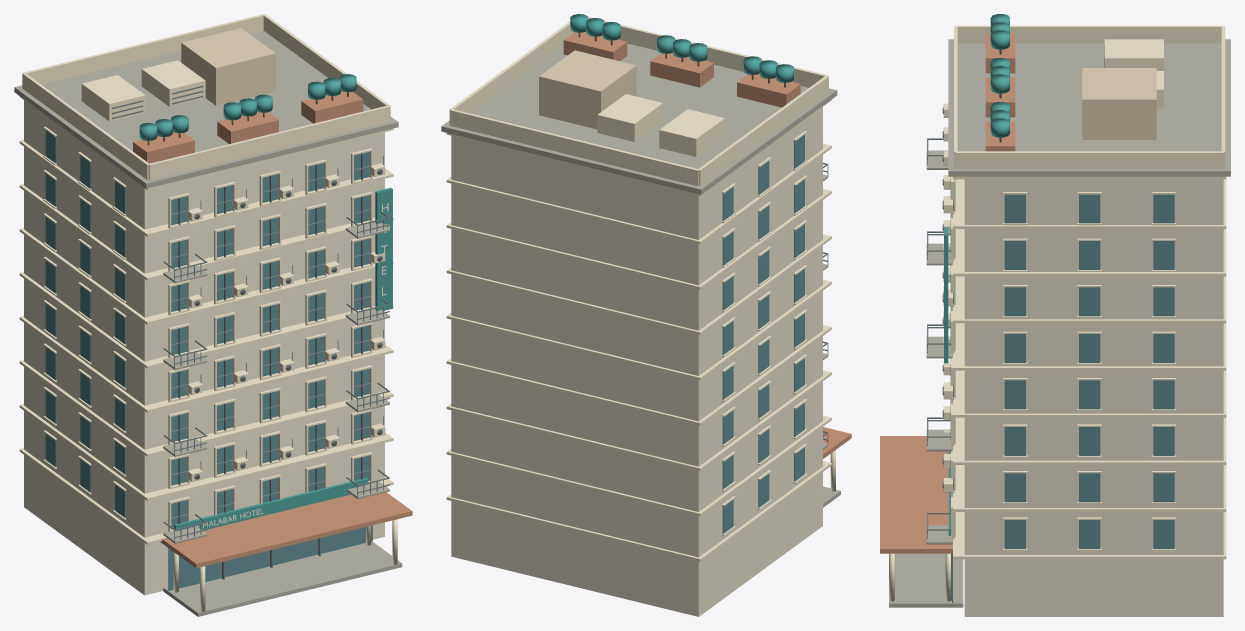
File: hotel.glb
3 renders of one model, left to right at view 1: azimuth 30°, elevation 25°; view 2: azimuth 150°, elevation 25°; view 3: azimuth 270°, elevation 25°, orthographic. The views are drawn at different scales.
Visible parts, largest first — view 1: hotel_PLASTER_LIGHT, hotel_CREAM, hotel_GLASS, hotel_CONCRETE, hotel_TERRACOTTA, hotel_METAL, hotel_AWNING, hotel_PLASTER; view 2: hotel_PLASTER_LIGHT, hotel_CREAM, hotel_CONCRETE, hotel_GLASS, hotel_PLASTER, hotel_TERRACOTTA, hotel_AWNING; view 3: hotel_PLASTER_LIGHT, hotel_CREAM, hotel_CONCRETE, hotel_GLASS, hotel_TERRACOTTA, hotel_PLASTER, hotel_AWNING, hotel_METAL.
Boxes of the visible parts, x1,y1,x2,y2 form: hotel_PLASTER_LIGHT: (24,100,384,595); hotel_CREAM: (19,14,397,611); hotel_GLASS: (45,130,372,590); hotel_CONCRETE: (14,30,402,616); hotel_TERRACOTTA: (133,91,412,568); hotel_METAL: (112,85,389,579); hotel_AWNING: (139,74,392,531); hotel_PLASTER: (181,28,275,105); hotel_PLASTER_LIGHT: (451,107,822,616); hotel_CREAM: (446,16,835,561); hotel_CONCRETE: (441,43,840,507); hotel_GLASS: (722,134,804,533); hotel_PLASTER: (539,50,636,129); hotel_TERRACOTTA: (563,32,851,458); hotel_AWNING: (570,14,793,82); hotel_PLASTER_LIGHT: (964,179,1223,616); hotel_CREAM: (889,25,1226,601); hotel_CONCRETE: (889,39,1230,607); hotel_GLASS: (952,179,1174,602); hotel_TERRACOTTA: (880,33,1015,553); hotel_PLASTER: (1082,68,1156,139); hotel_AWNING: (944,14,1009,535); hotel_METAL: (927,45,1104,600).
Size of the model in its own units: 21 by 36.3 by 23.6.
